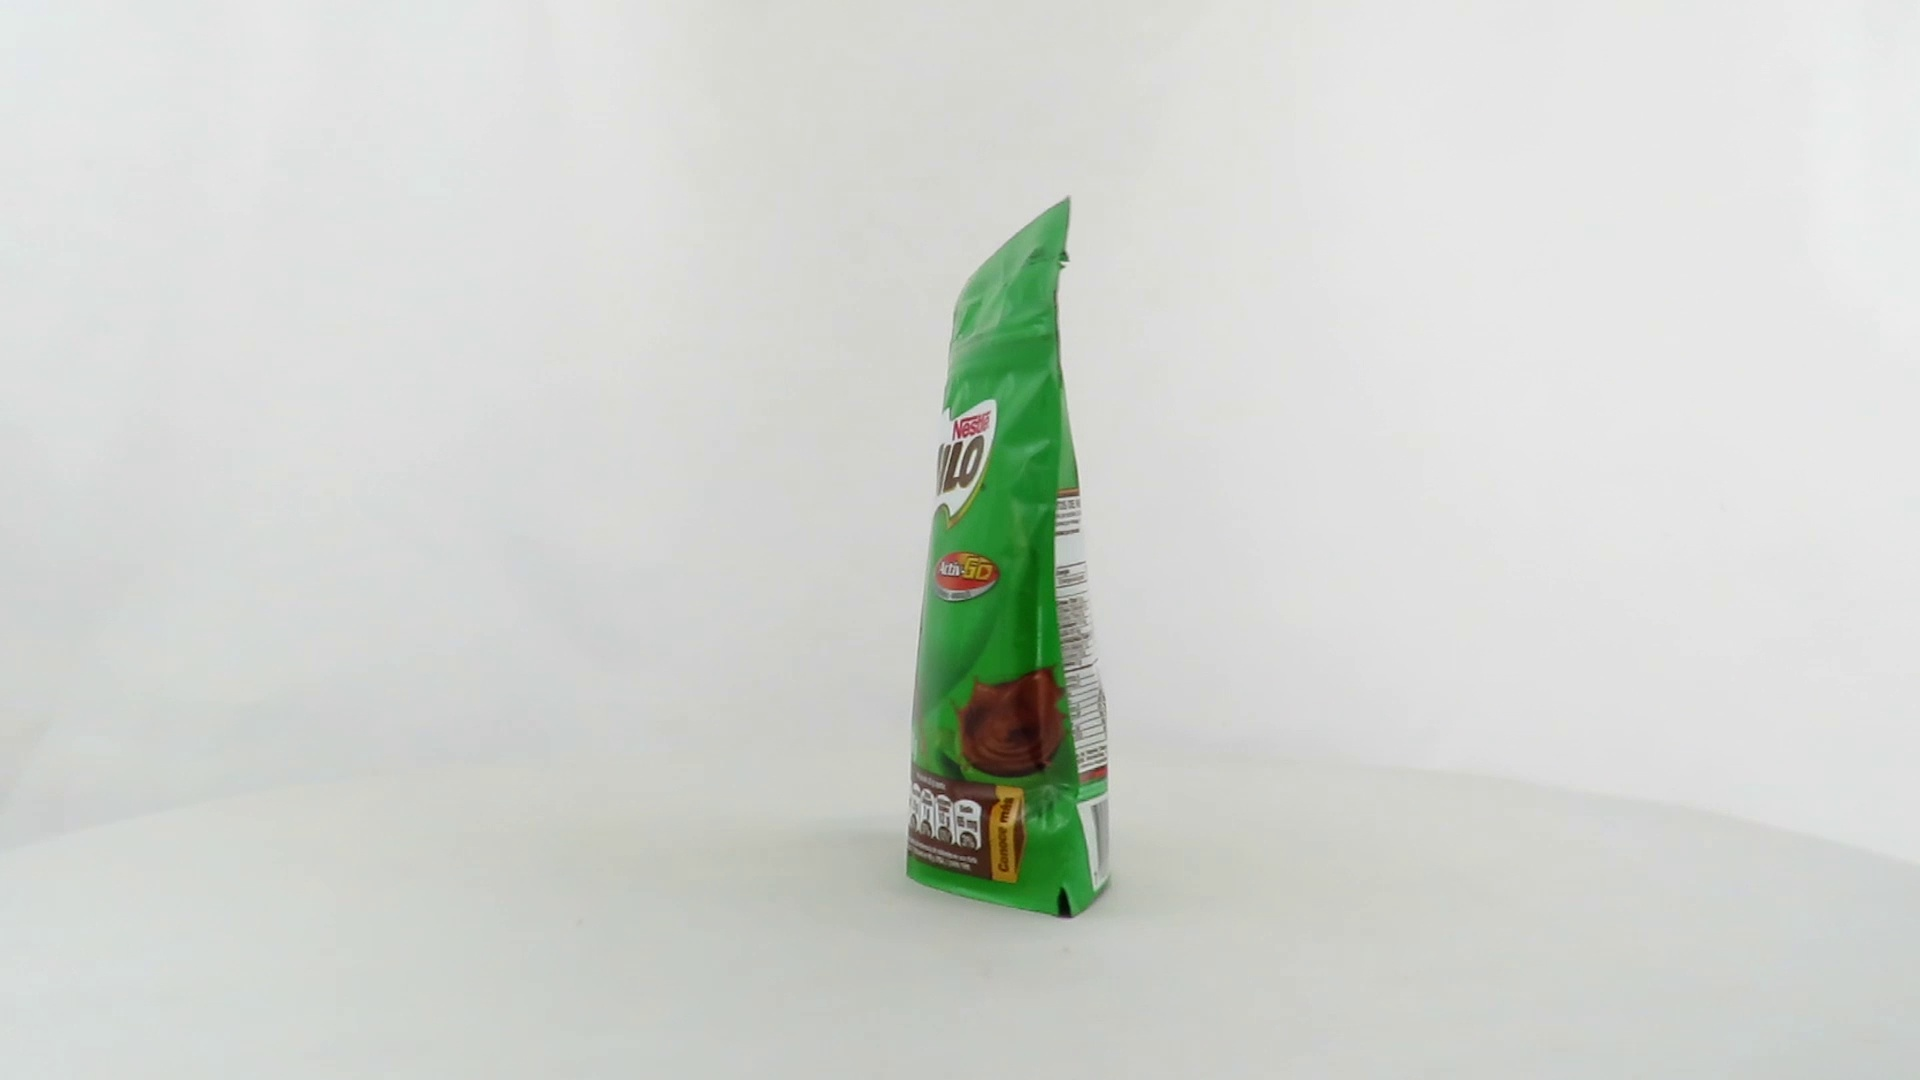COL0170203DYP10000: (901, 191, 1118, 924)
